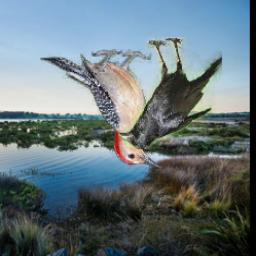Crow: (117, 38, 221, 150)
Woodpecker: (39, 50, 163, 171)
